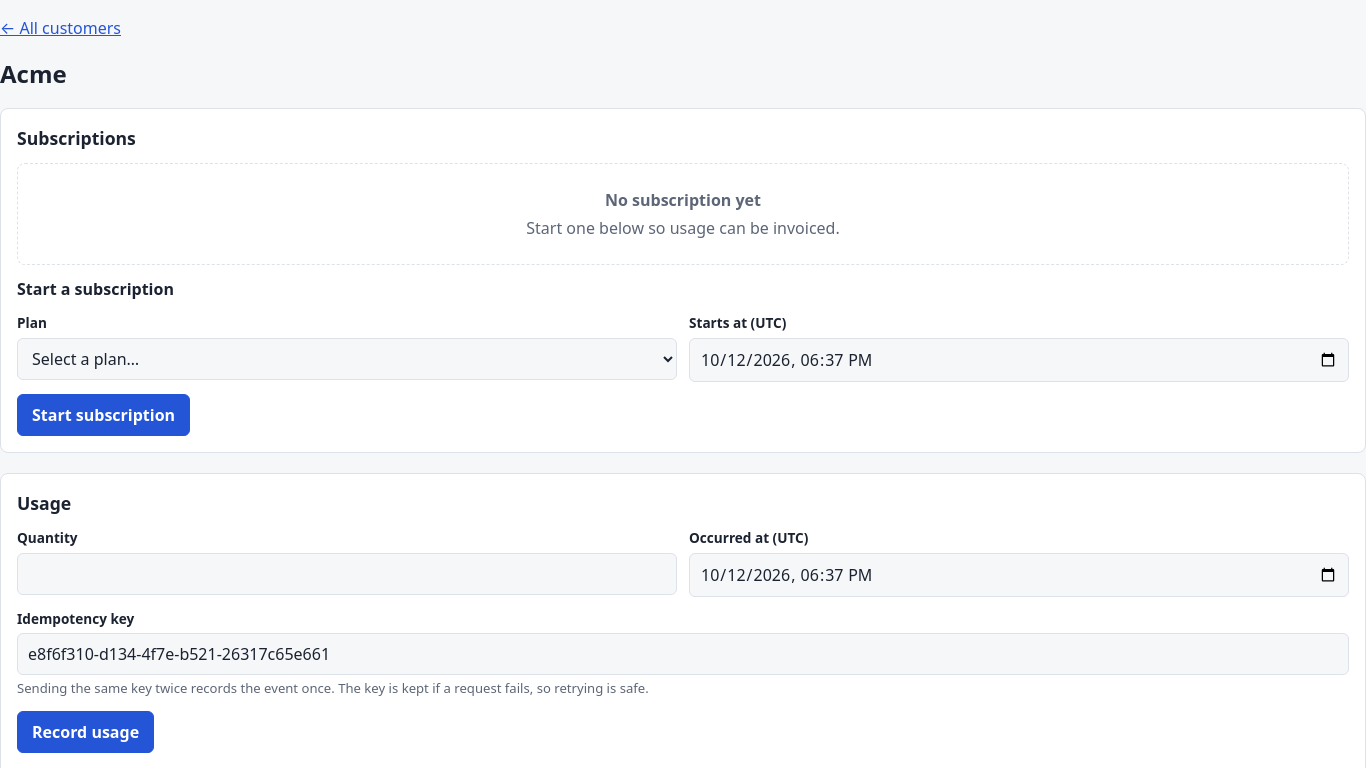
it: customer page: usage › keeps the same key after a failure so a retry cannot double-count
In the field labelled "Quantity": x=347, y=574 [17,553,677,595], type "5"
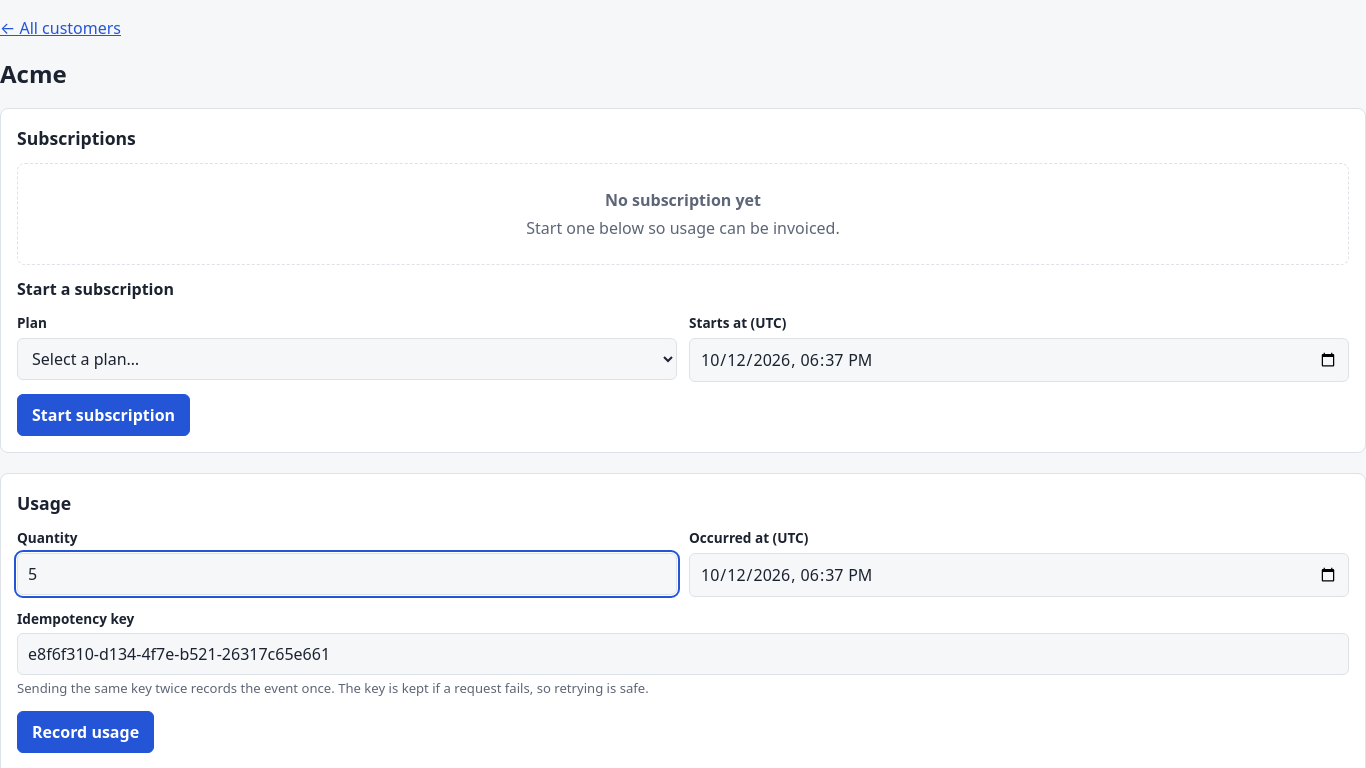
Click the button "Record usage": x=86, y=732 [17,711,154,753]
(page scrolled)
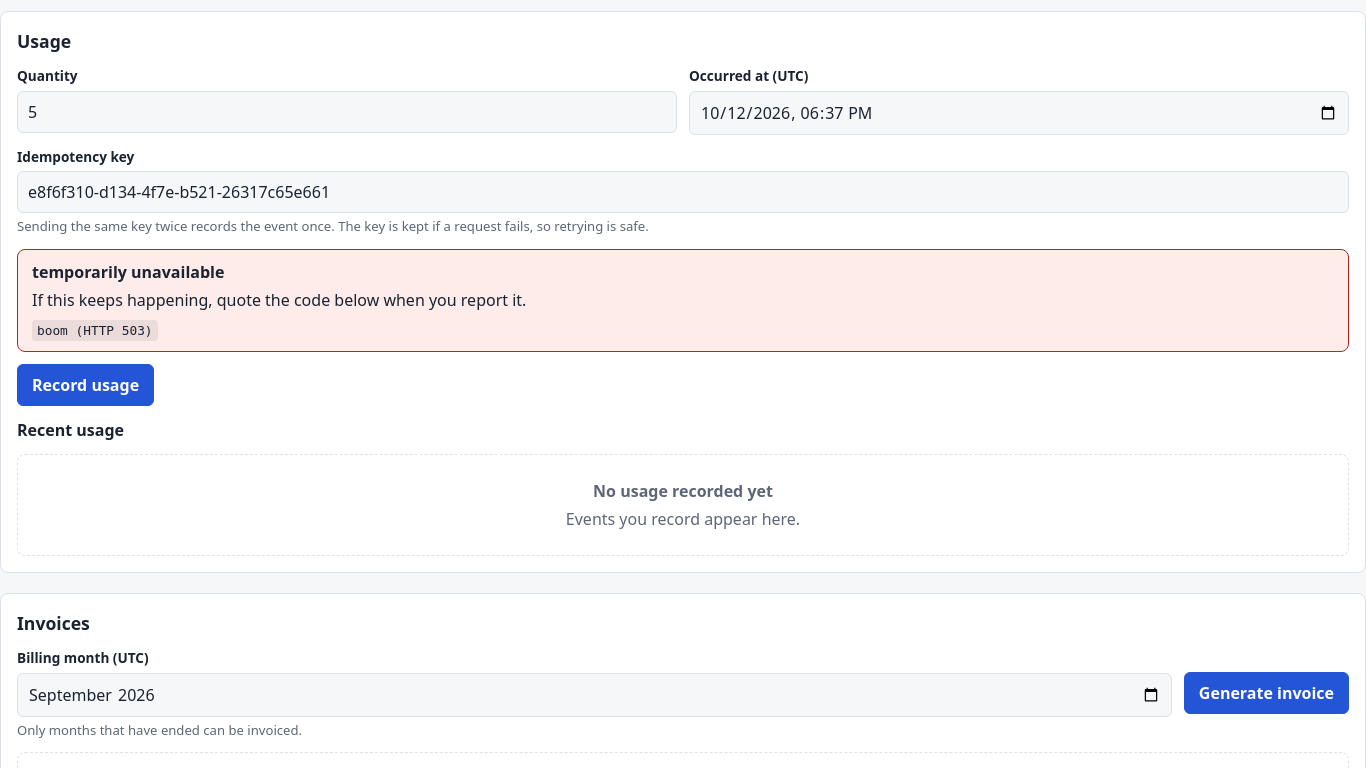
Check: the message shows "temporarily unavailable", box [32,261,224,283]
Click the button "Record usage": x=86, y=385 [17,364,154,406]
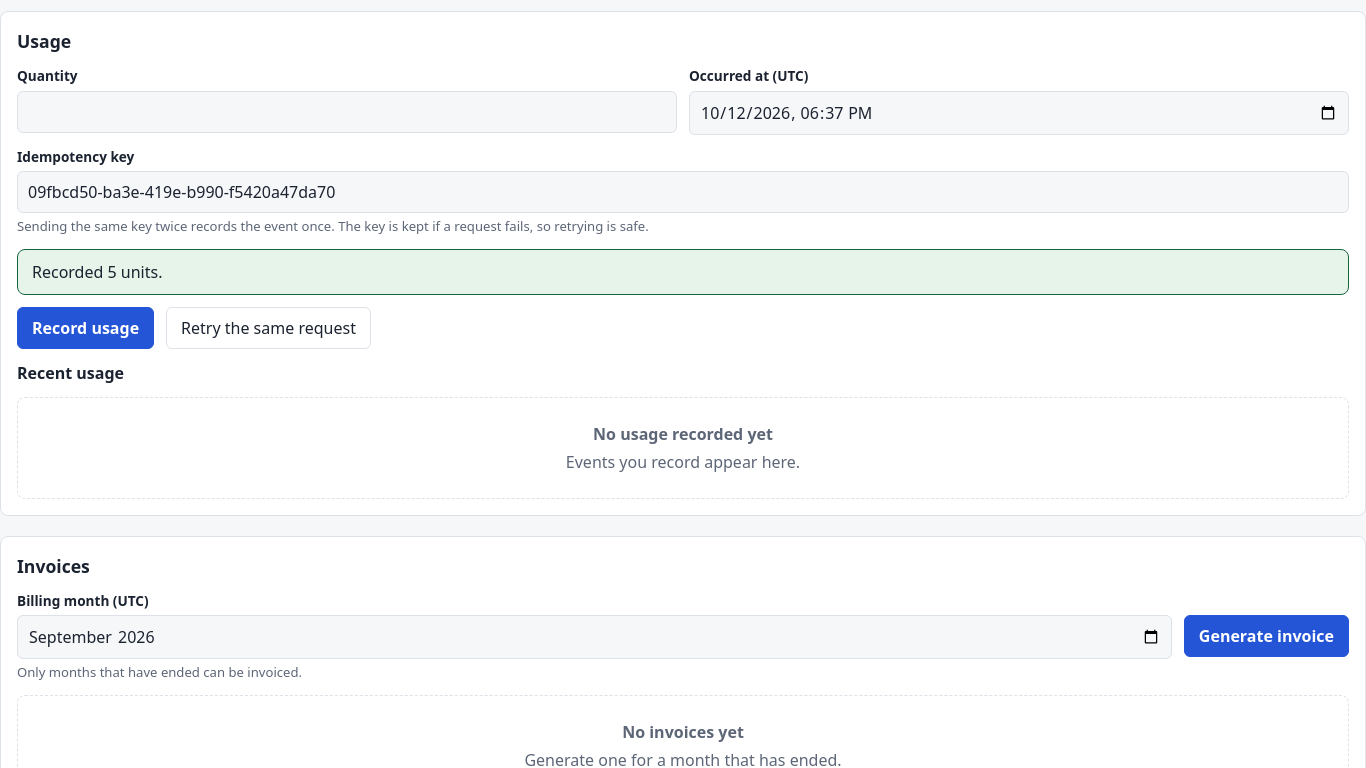
Check: the text "Recorded 5 units." is shown, box [17,249,1349,295]
